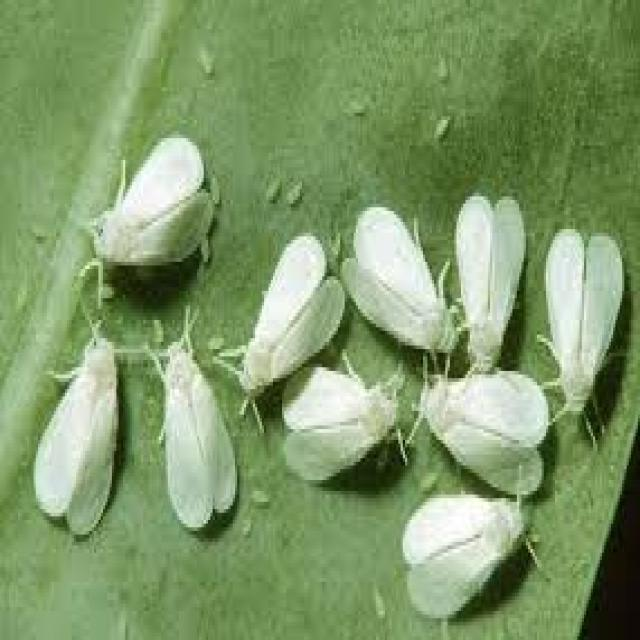Pestalotiopsis: (42, 116, 640, 639)
